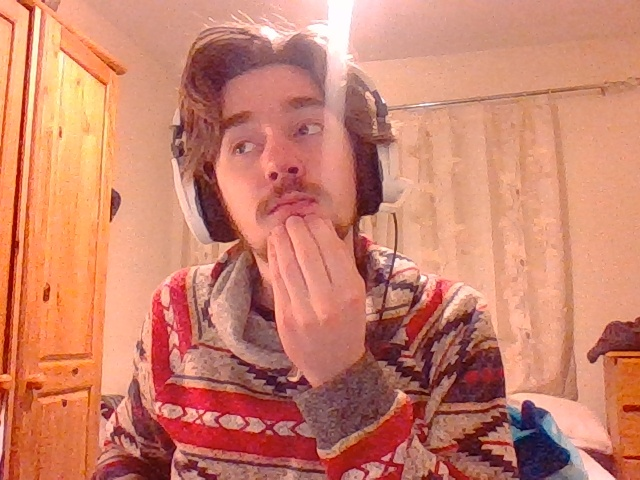thanks: (262, 212, 368, 375)
